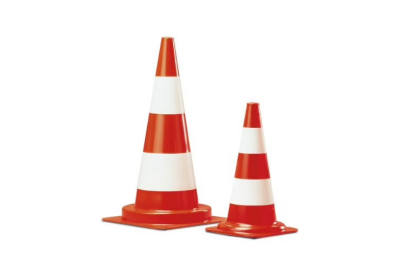Road_cone: (106, 33, 222, 231), (197, 101, 308, 242)
